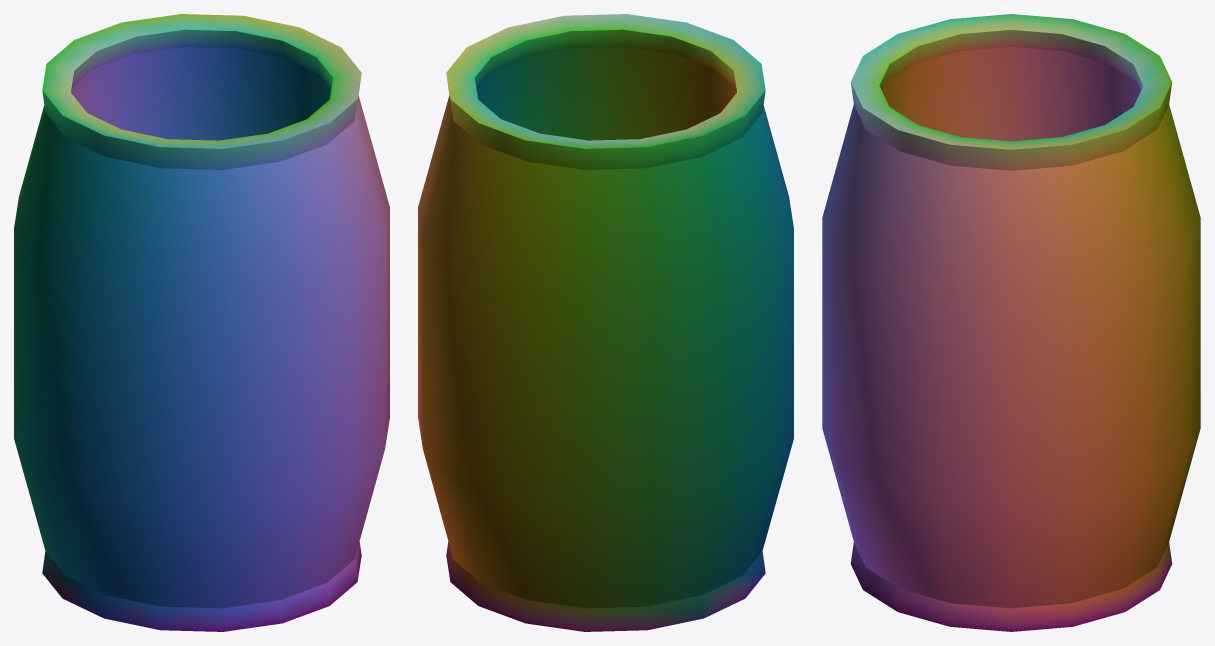
Rendered from SM_barrel01.fbx.
3 renders of one model, left to right at view 1: azimuth 30°, elevation 25°; view 2: azimuth 150°, elevation 25°; view 3: azimuth 270°, elevation 25°, orthographic.
Visible parts, largest first — view 1: SM_barrel; view 2: SM_barrel; view 3: SM_barrel.
Boxes of the visible parts, bbox=[...] form: SM_barrel: bbox=[14, 14, 389, 631]; SM_barrel: bbox=[418, 14, 793, 631]; SM_barrel: bbox=[822, 14, 1200, 631].
Size of the model in its own units: 73.39 by 103 by 73.39.
